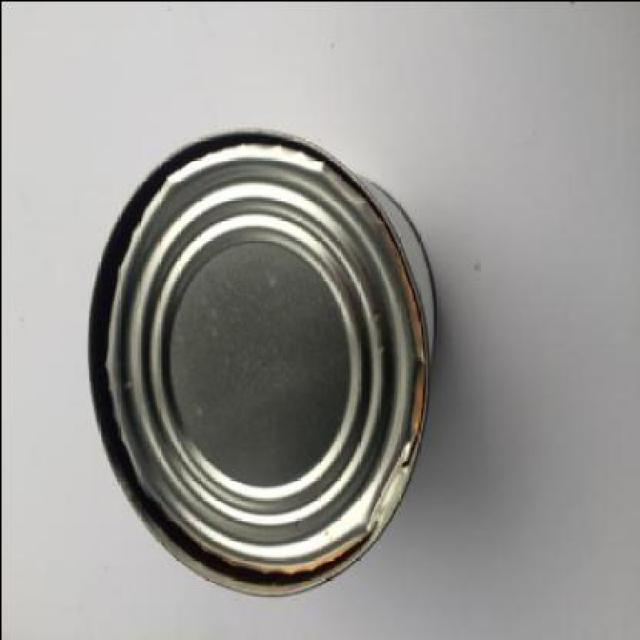METAL: (83, 133, 434, 596)
